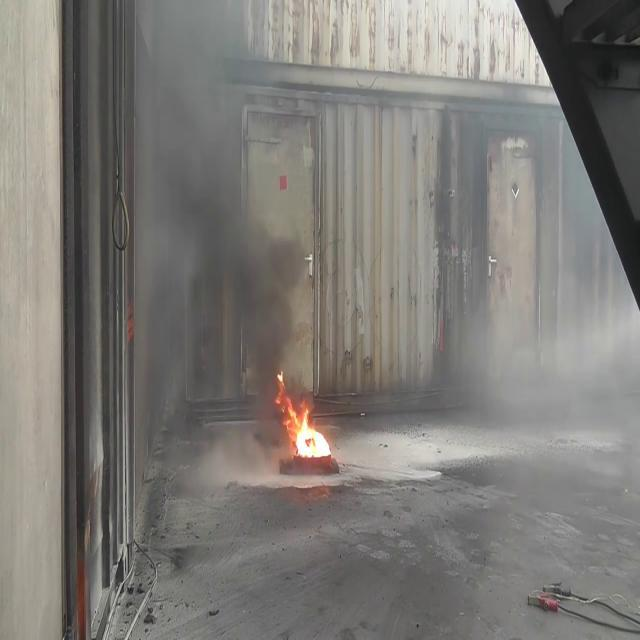Fire: (272, 371, 334, 464)
Smoke: (136, 10, 302, 482)
